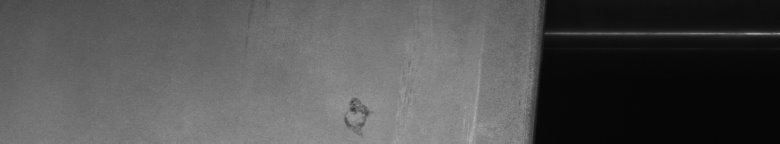fi: (344, 92, 374, 136)
